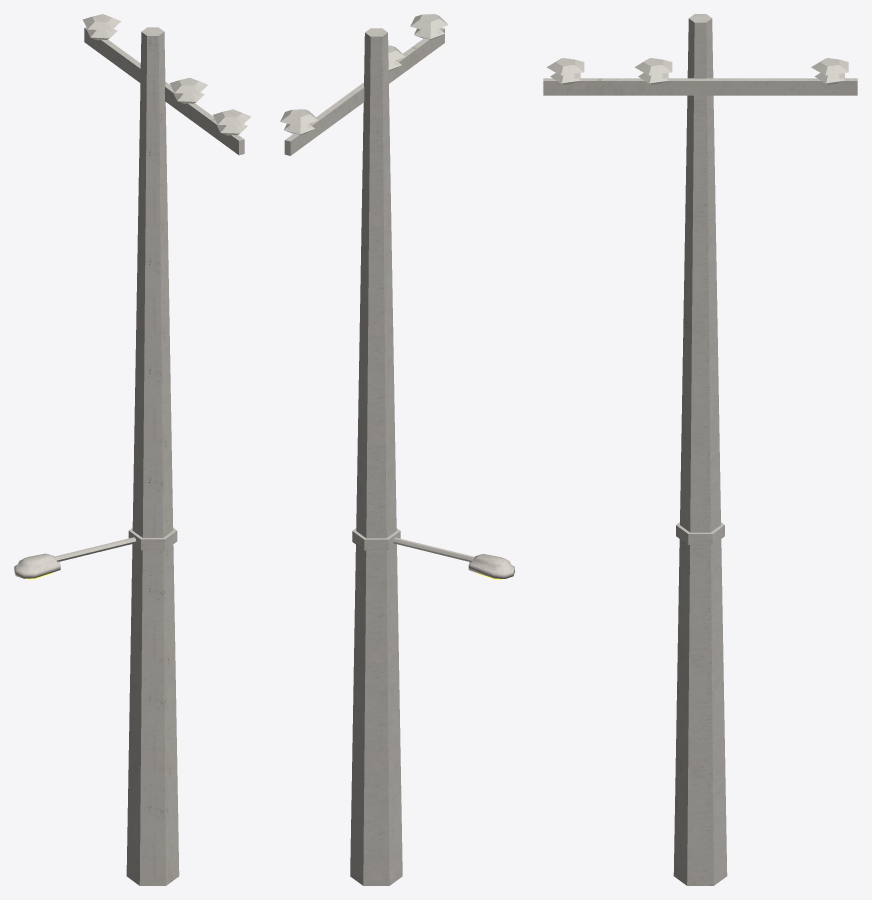
The picture shows the model from 3 angles, left to right: view 1: azimuth 30°, elevation 25°; view 2: azimuth 150°, elevation 25°; view 3: azimuth 270°, elevation 25°; orthographic projection.
Visible parts, largest first — view 1: Cylinder.032, Cylinder.033; view 2: Cylinder.032, Cylinder.033; view 3: Cylinder.032, Cylinder.033.
Part boxes in pixels (box(x1,y1,x2,y2)): Cylinder.032: box(82, 14, 251, 885); Cylinder.033: box(14, 528, 177, 579); Cylinder.032: box(280, 14, 448, 885); Cylinder.033: box(352, 528, 514, 579); Cylinder.032: box(543, 14, 857, 885); Cylinder.033: box(676, 522, 724, 544).
Bounding box in the file's own units: 4.18 × 20.19 × 6.7.
3 materials, 2 textured.
